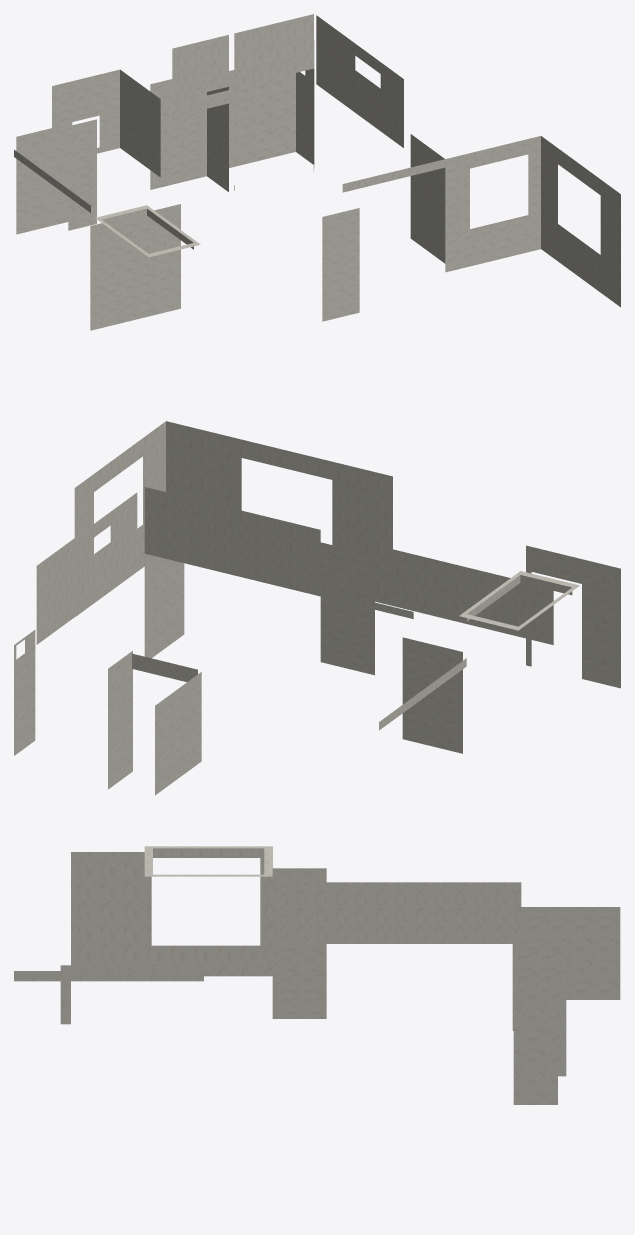
The model's file is kd_stage_135ded_4_31_bounded.glb.
3 renders of one model, top to bottom at view 1: azimuth 30°, elevation 25°; view 2: azimuth 150°, elevation 25°; view 3: azimuth 270°, elevation 25°, orthographic. The views are drawn at different scales.
Visible parts, largest first — view 1: kd_stage_135ded_4_31_bounded; view 2: kd_stage_135ded_4_31_bounded; view 3: kd_stage_135ded_4_31_bounded.
Boxes of the visible parts, box(x1,y1,x2,y2) form: kd_stage_135ded_4_31_bounded: box(14, 14, 620, 330); kd_stage_135ded_4_31_bounded: box(14, 421, 620, 795); kd_stage_135ded_4_31_bounded: box(14, 846, 620, 1104).
Bounding box in the file's own units: 9.57 × 3.54 × 10.05.
Materials: 1 (1 with a texture image).
